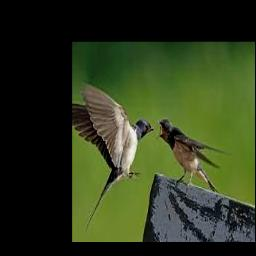Swallow: (72, 82, 154, 232), (157, 118, 230, 193)
